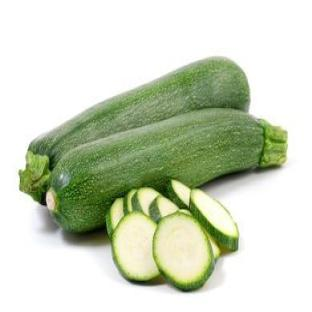Zucchini: (21, 58, 249, 202), (47, 110, 287, 231), (153, 213, 214, 290), (112, 212, 159, 280), (191, 189, 239, 250), (132, 188, 159, 215), (150, 196, 178, 221), (167, 179, 190, 208), (106, 198, 123, 237), (206, 231, 220, 262), (124, 189, 137, 214), (179, 209, 192, 215)
